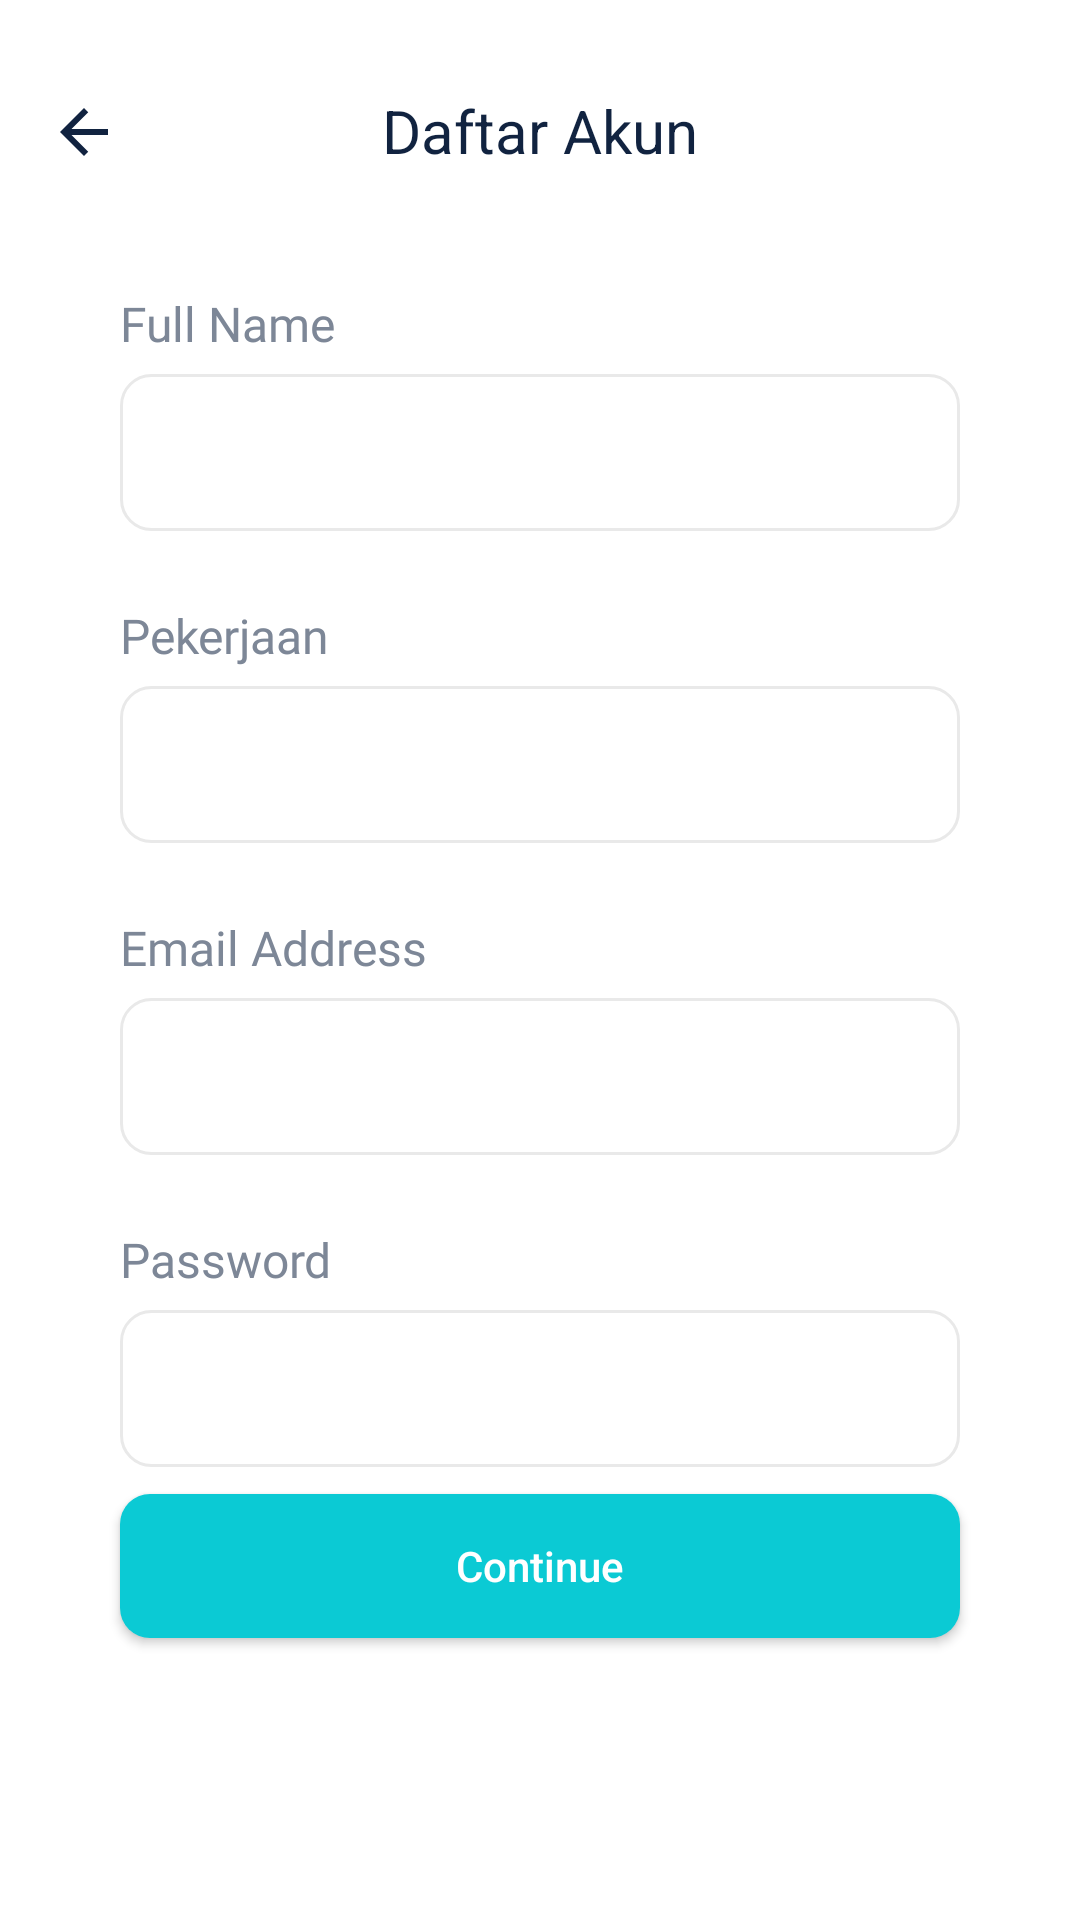

Icons on this 1080px×1920px Android screen, each with the point to tap as point (x, y):
arrow: point (84, 132)
